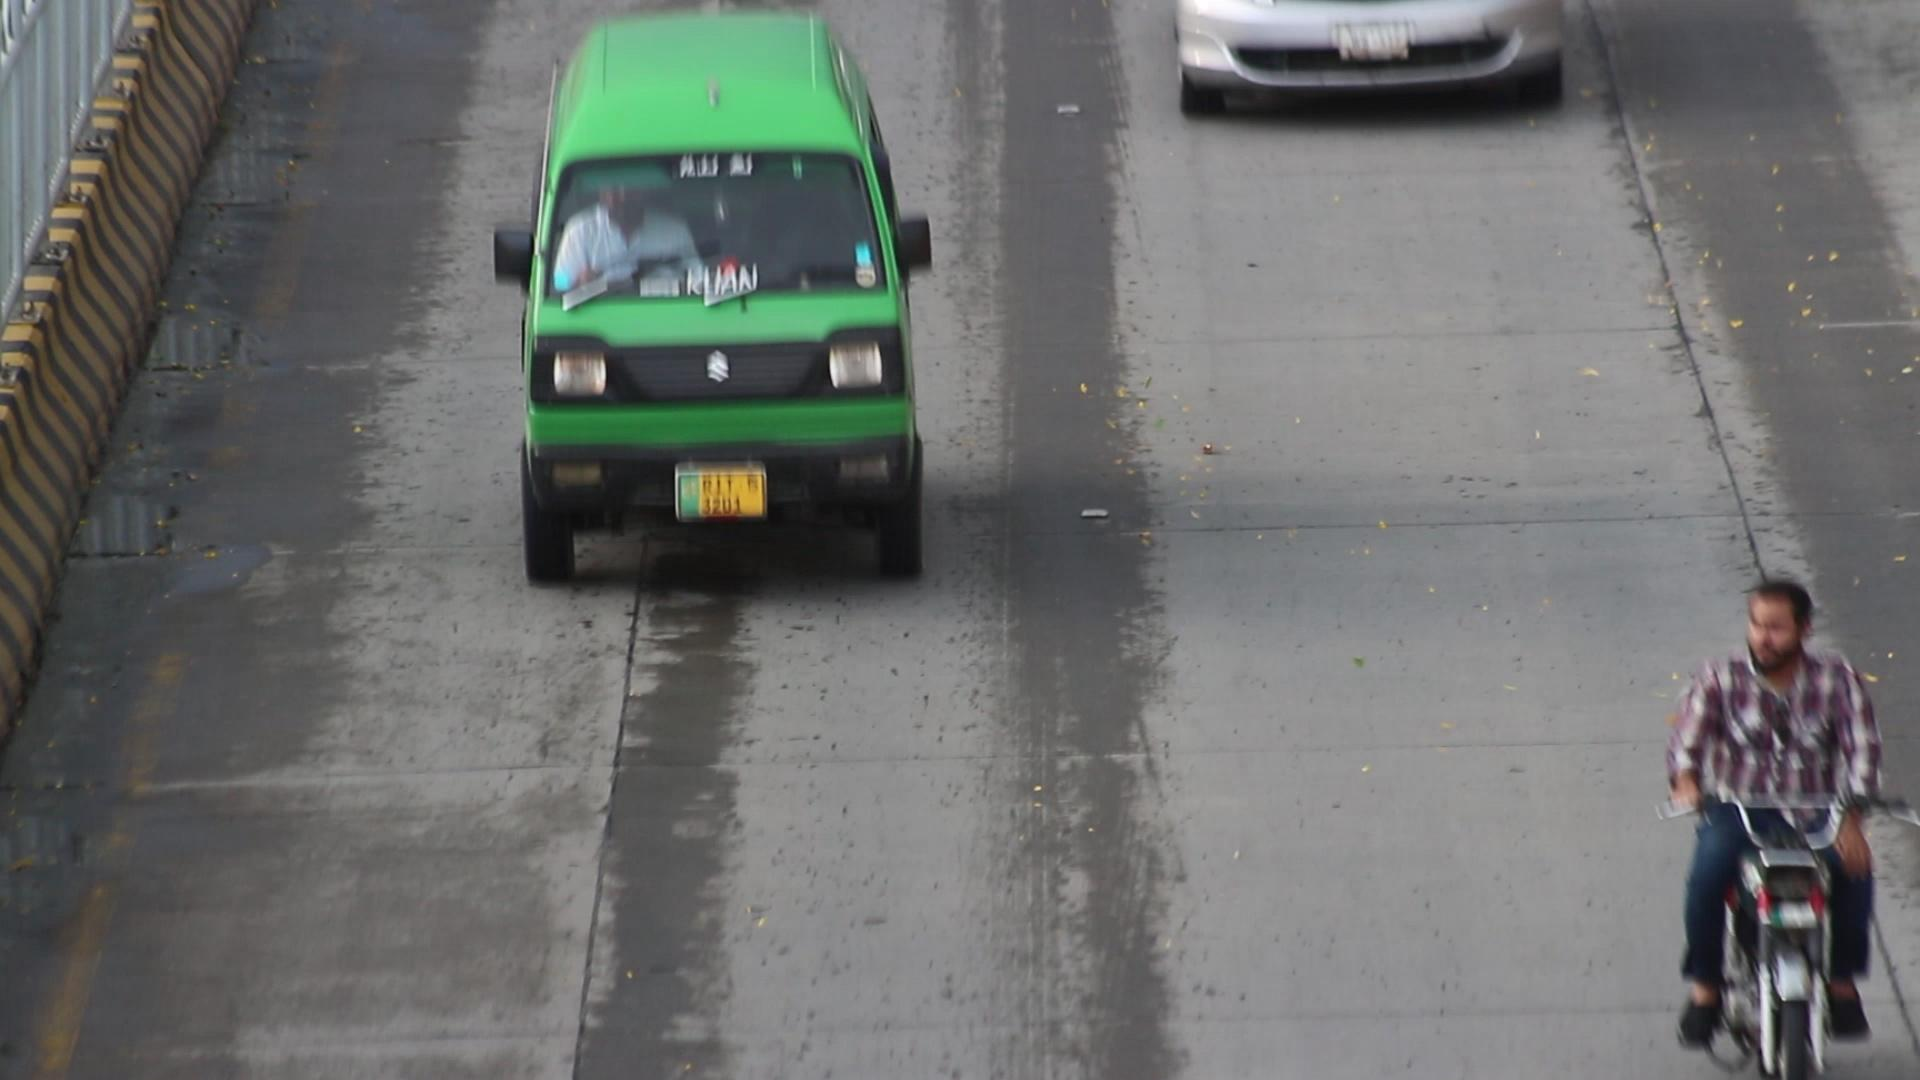windshield: (538, 133, 901, 314)
